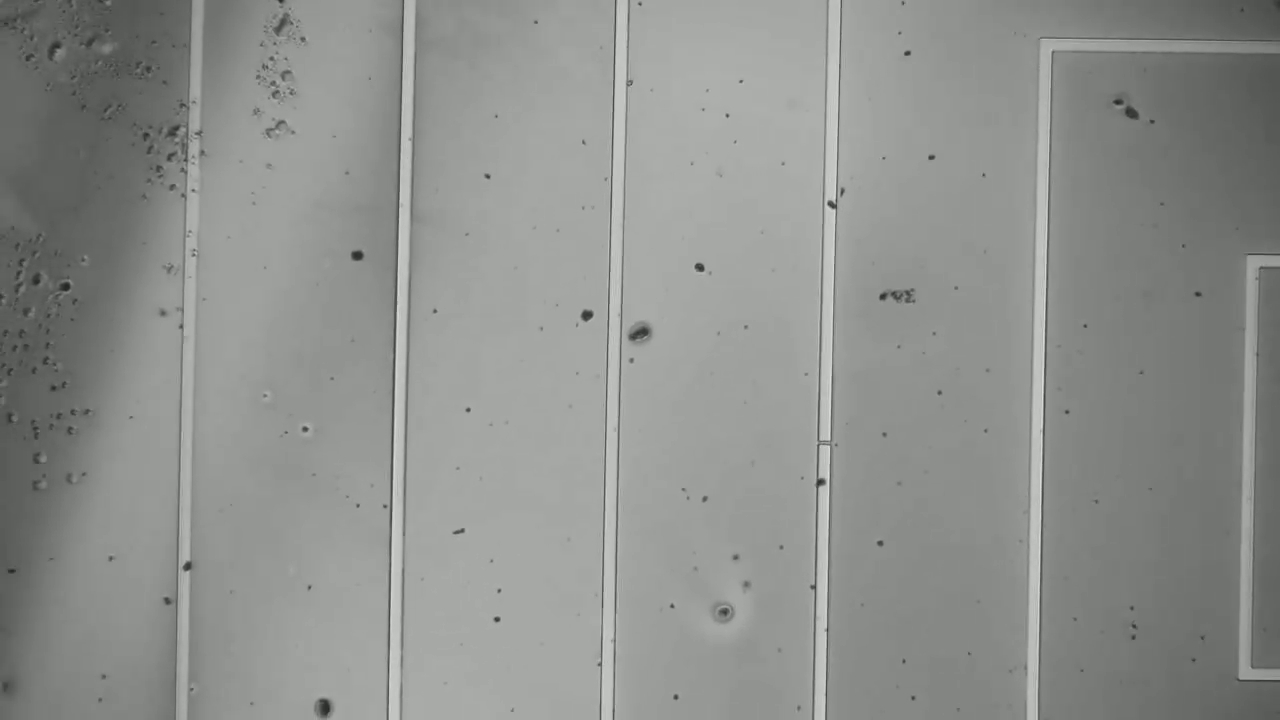open: (809, 428, 838, 449)
stains_enbedded: (169, 551, 200, 581), (816, 190, 845, 219), (813, 470, 834, 492)
